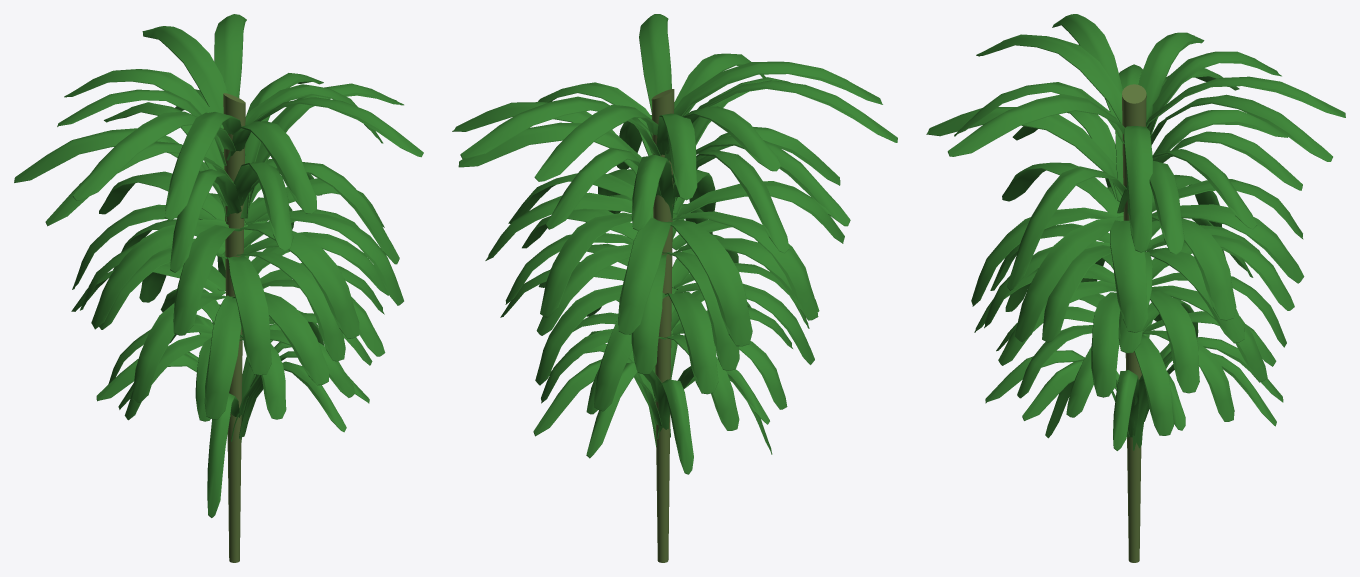
Rendered from SmallerFern.fbx.
3 renders of one model, left to right at view 1: azimuth 30°, elevation 25°; view 2: azimuth 150°, elevation 25°; view 3: azimuth 270°, elevation 25°, orthographic.
Parts seen in each view (by area): view 1: polySurface377; view 2: polySurface377; view 3: polySurface377.
Boxes of the visible parts, <box> form: polySurface377: <box>14,14,423,562</box>; polySurface377: <box>452,14,897,562</box>; polySurface377: <box>926,14,1345,562</box>.
Size of the model in its own units: 1.28 by 1.54 by 1.21.
